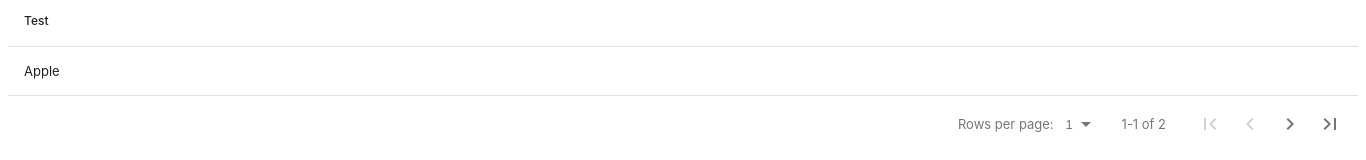
Test: DataTable::Pagination › should have the correct amount of rows when paging forward
Click the button named "Next Page" at (1290, 124), box [1270,104,1310,144]
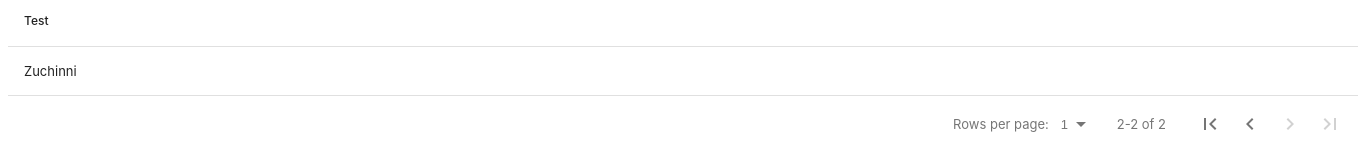
Expected: the row "Zuchinni" is shown, [8,47,1358,95]
Expected: the row "Apple" is gone
